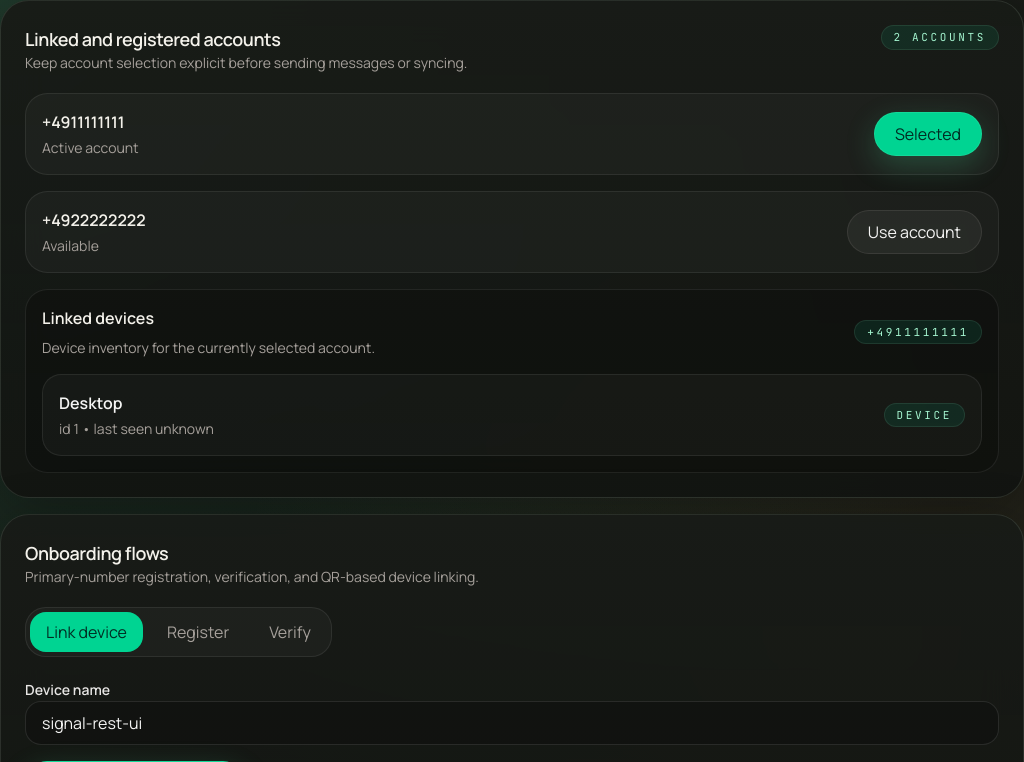
Scenario: AccountsRoute › loads accounts and allows activating one
Expected: the text "+4922222222" is shown, [42,208,146,232]
Click the button "Use account" at (914, 232), box [847,210,982,254]
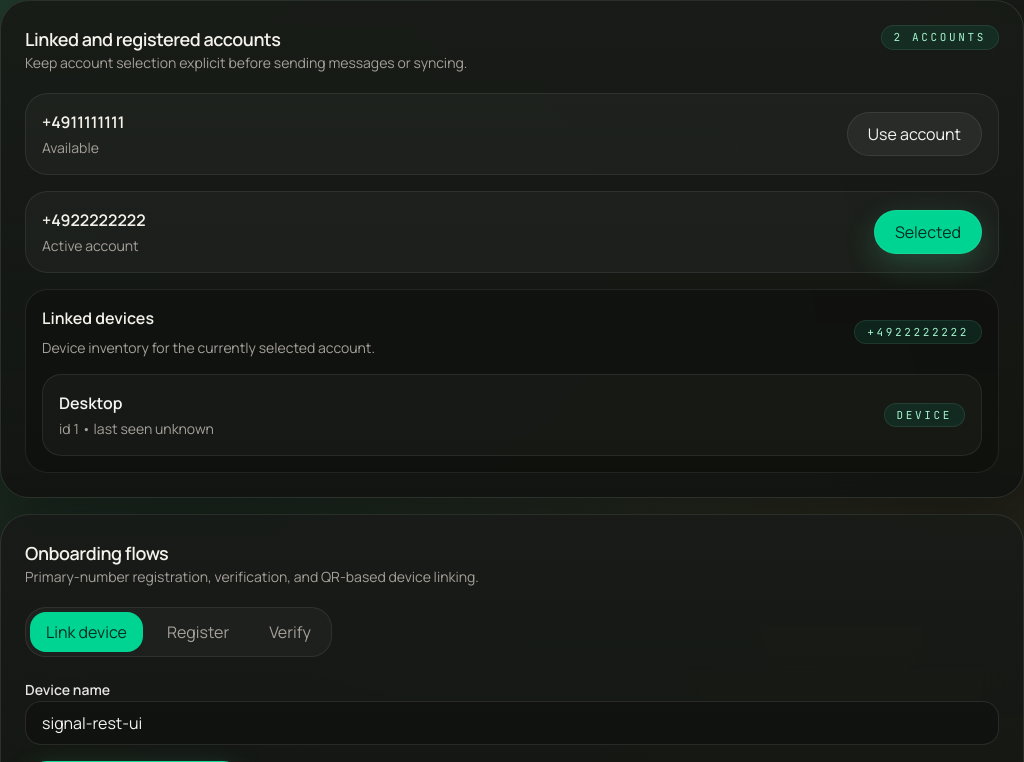
Expected: the button "Selected" is shown, [874,210,982,254]
